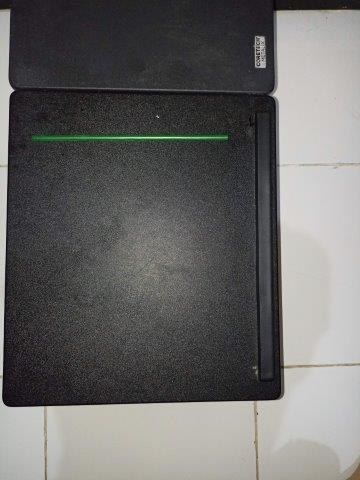sedotan: (31, 135, 228, 142)
